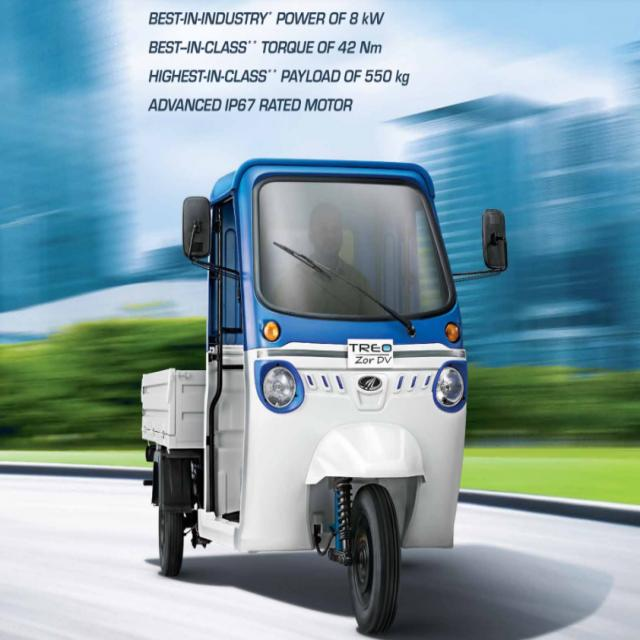autorickshaw: (141, 160, 469, 633)
